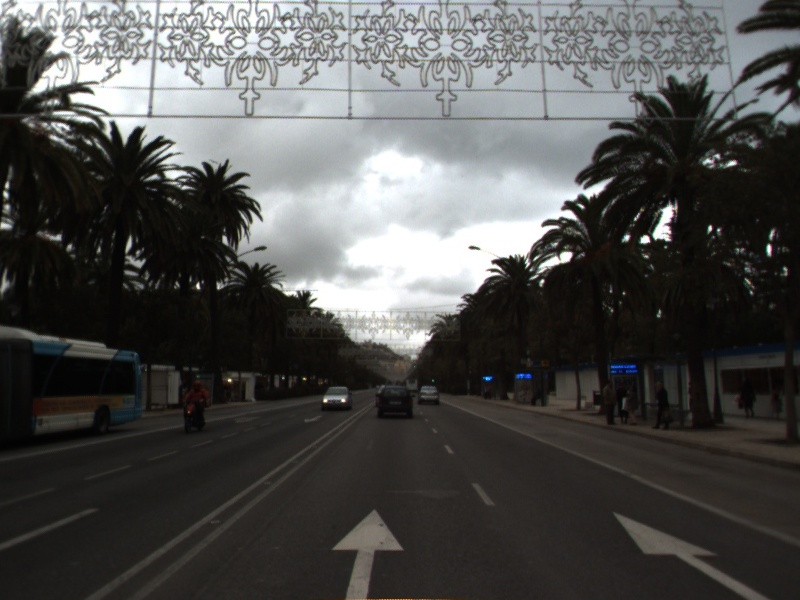STRAIGHT: (610, 508, 773, 600), (328, 505, 408, 600)
